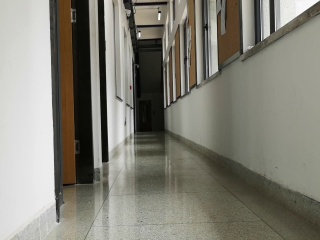room: (44, 1, 99, 207)
